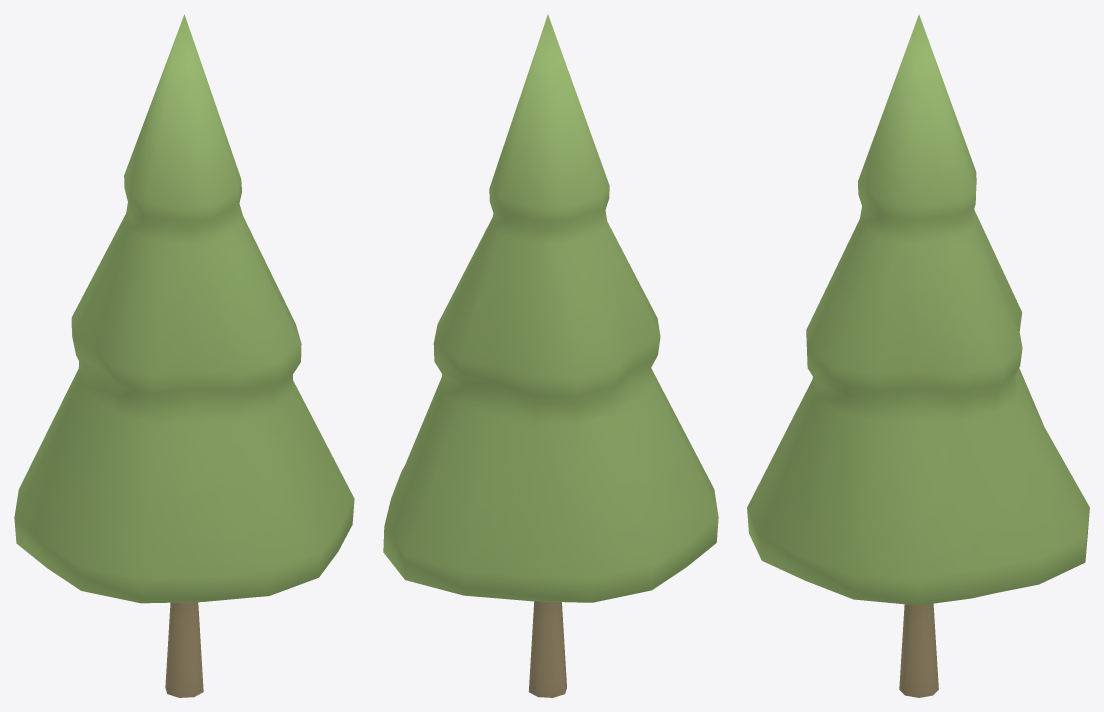
3 views of the same model, side by side, from view 1: azimuth 30°, elevation 25°; view 2: azimuth 150°, elevation 25°; view 3: azimuth 270°, elevation 25° (orthographic).
Parts seen in each view (by area): view 1: Circle.027; view 2: Circle.027; view 3: Circle.027.
Part boxes in pixels (x1,y1,x2,y2): Circle.027: (14, 14, 354, 697); Circle.027: (383, 14, 718, 697); Circle.027: (747, 14, 1089, 697).
Bounding box in the file's own units: 8.86 × 19.81 × 9.11.
1 material, 1 textured.
